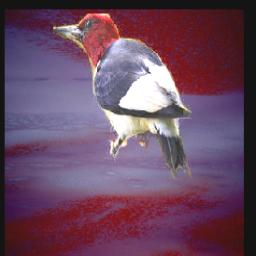Woodpecker: (53, 15, 192, 180)
